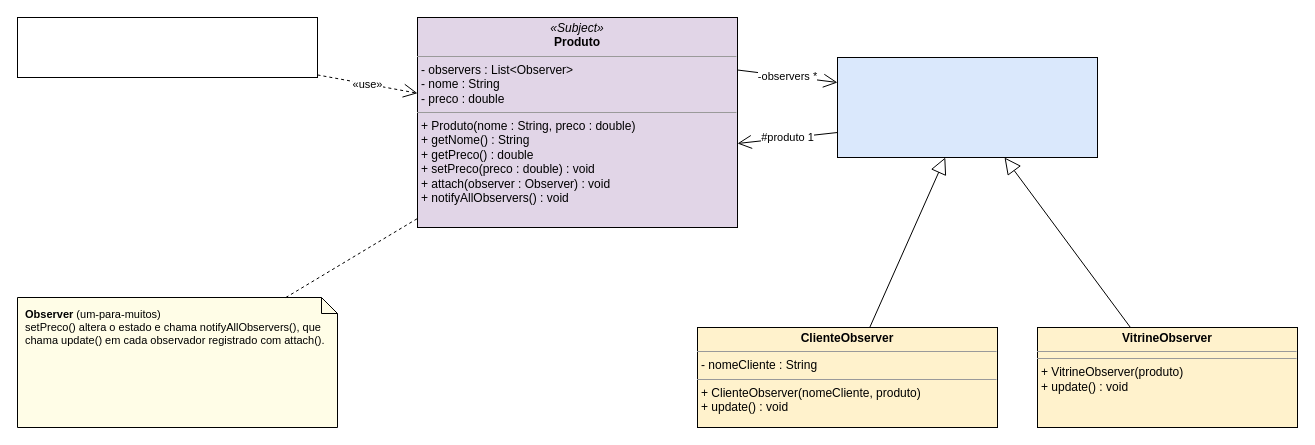
Image size: 1315x445. Some labels were removed from this diagram. Here are the shapes that lost their labels. From the top down, the centre of each, then its label:
(167,47): ConsumidorObserver + main(args : String[]) : void
(967,107): «abstract» Observer # produto : Produto + update() : void
